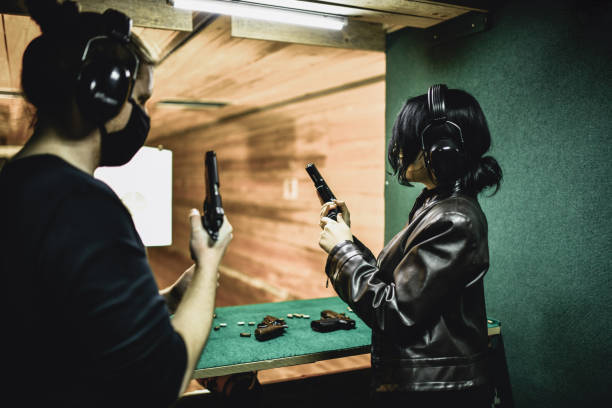gun: (304, 161, 343, 221), (201, 150, 225, 240), (310, 308, 357, 334), (253, 314, 289, 342)
